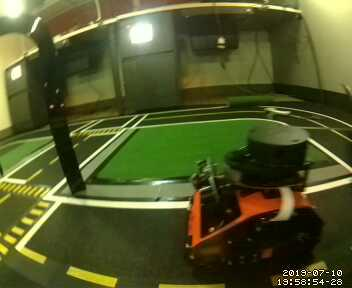pheeno: (185, 121, 326, 266)
